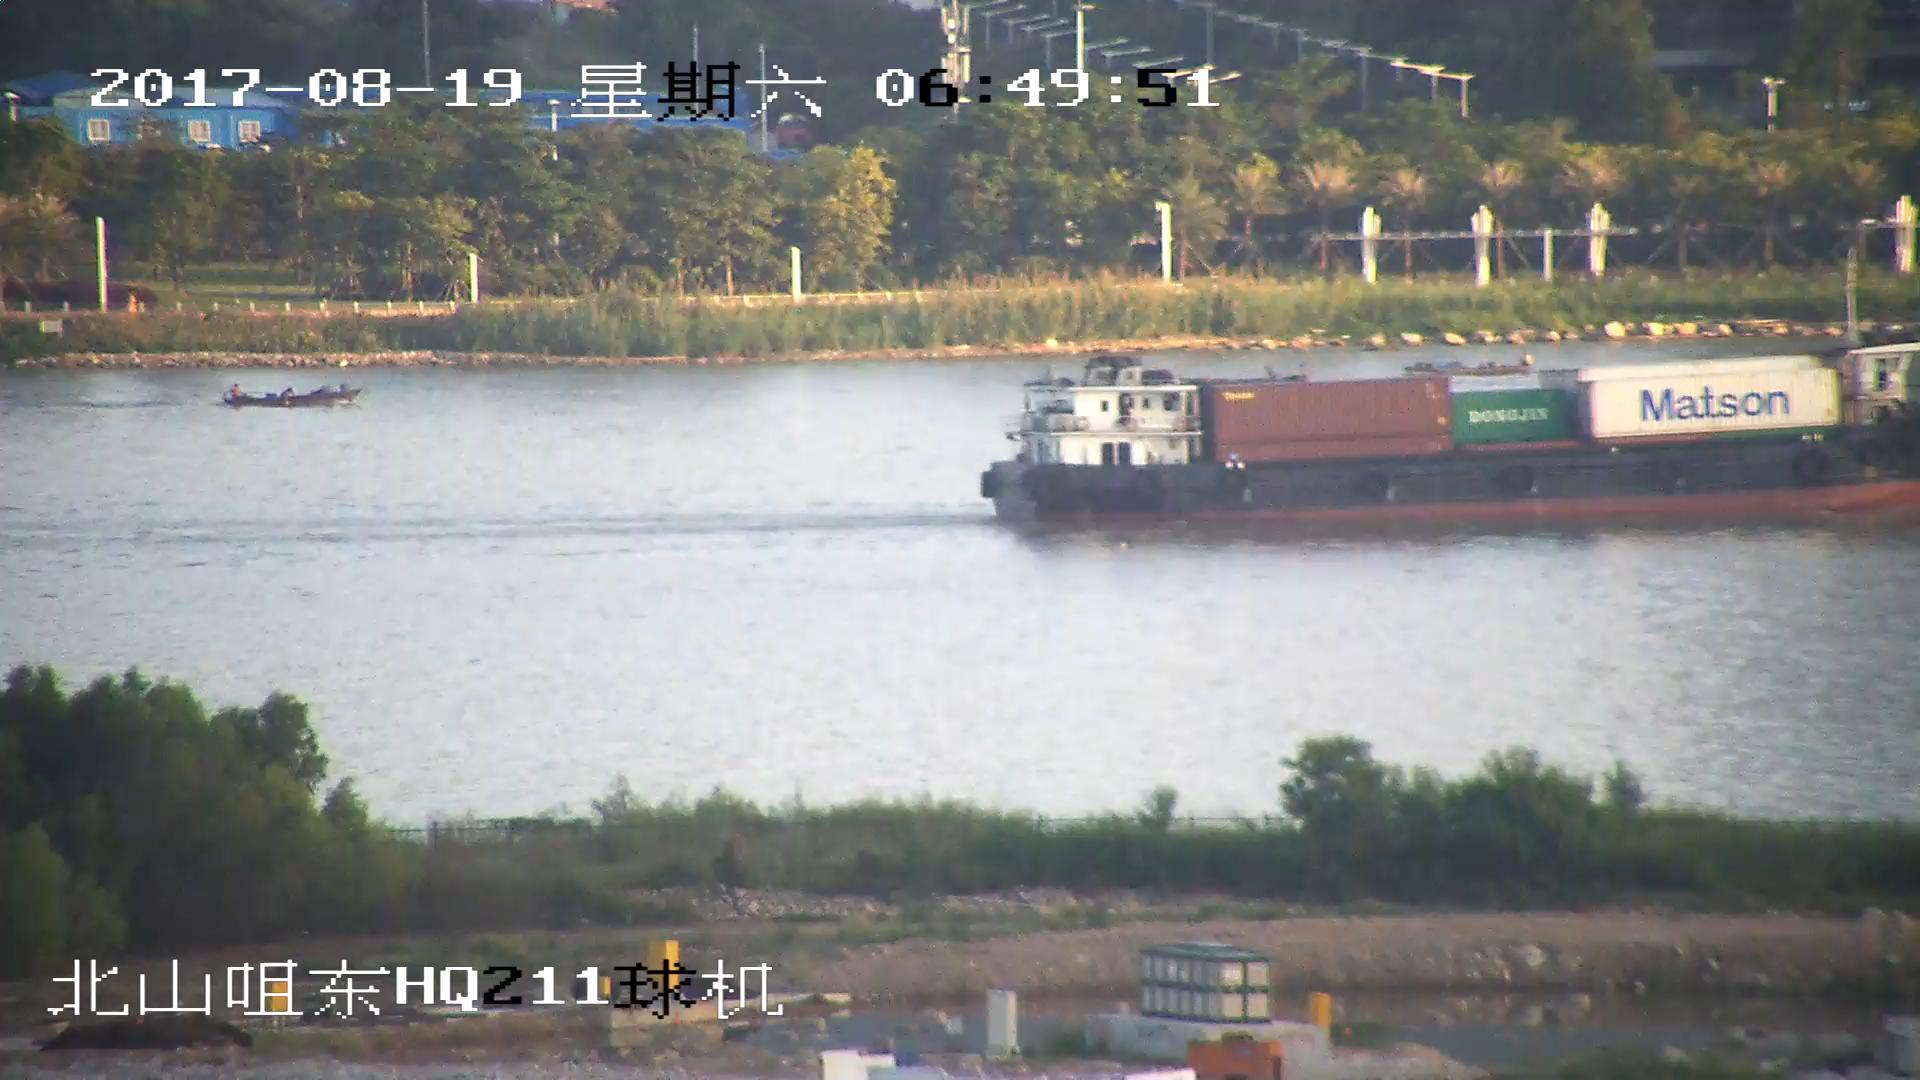container ship: (980, 343, 1920, 523)
fishing boat: (222, 375, 361, 414)
